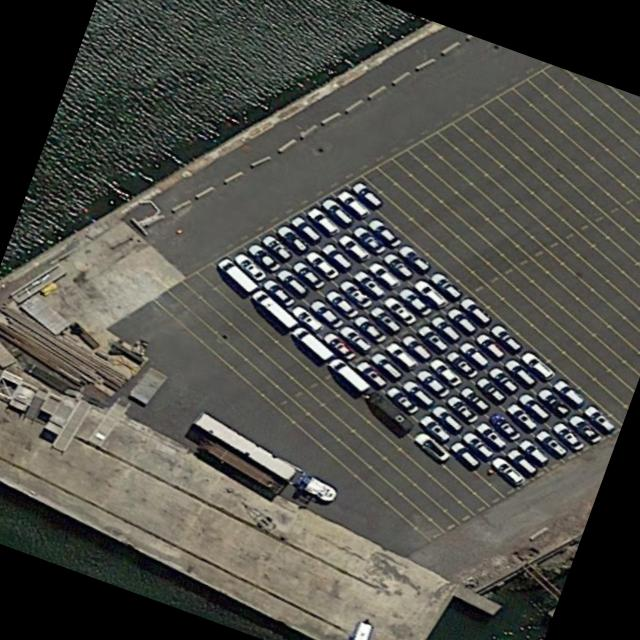large-vehicle: (191, 411, 338, 502)
small-vehicle: (249, 288, 299, 328), (215, 255, 259, 292), (326, 356, 372, 391), (290, 325, 334, 360), (244, 240, 283, 272), (518, 349, 556, 381), (381, 294, 419, 326), (395, 285, 434, 316), (488, 454, 526, 485), (382, 339, 420, 370), (412, 431, 451, 461), (364, 217, 403, 247), (306, 298, 345, 328), (426, 356, 463, 387), (320, 329, 357, 360), (319, 197, 357, 227), (302, 249, 340, 279), (322, 288, 360, 318), (414, 367, 451, 397), (259, 277, 296, 307), (305, 205, 342, 235), (351, 224, 388, 254), (335, 232, 372, 262), (336, 278, 373, 308), (351, 313, 388, 343), (411, 277, 448, 307), (288, 302, 325, 332), (384, 385, 422, 414), (425, 270, 463, 299), (566, 413, 602, 443), (369, 349, 405, 379), (335, 188, 371, 218), (535, 387, 572, 416), (289, 259, 326, 288), (274, 267, 311, 296), (336, 323, 373, 352), (504, 401, 539, 431), (232, 252, 268, 281), (443, 394, 479, 423), (581, 403, 617, 432), (516, 391, 553, 419), (274, 223, 309, 252), (443, 350, 479, 378), (487, 323, 523, 351), (502, 358, 538, 386), (550, 378, 586, 406), (396, 243, 432, 271), (457, 296, 494, 323), (352, 269, 386, 298), (417, 413, 452, 441), (486, 365, 521, 393), (448, 439, 483, 467), (534, 428, 569, 456), (550, 421, 585, 449), (472, 420, 507, 448), (487, 412, 522, 440), (349, 180, 384, 208), (288, 214, 323, 242), (366, 260, 401, 288), (367, 304, 402, 332), (399, 379, 435, 406), (444, 306, 480, 333), (415, 323, 449, 351), (398, 332, 432, 360), (429, 404, 464, 431), (472, 332, 507, 359), (427, 314, 462, 341), (460, 431, 495, 458), (355, 359, 390, 386), (318, 241, 353, 268), (505, 447, 538, 475), (516, 438, 551, 464), (260, 233, 293, 260), (473, 376, 507, 402), (457, 340, 490, 366), (381, 251, 414, 277), (458, 386, 491, 411)
